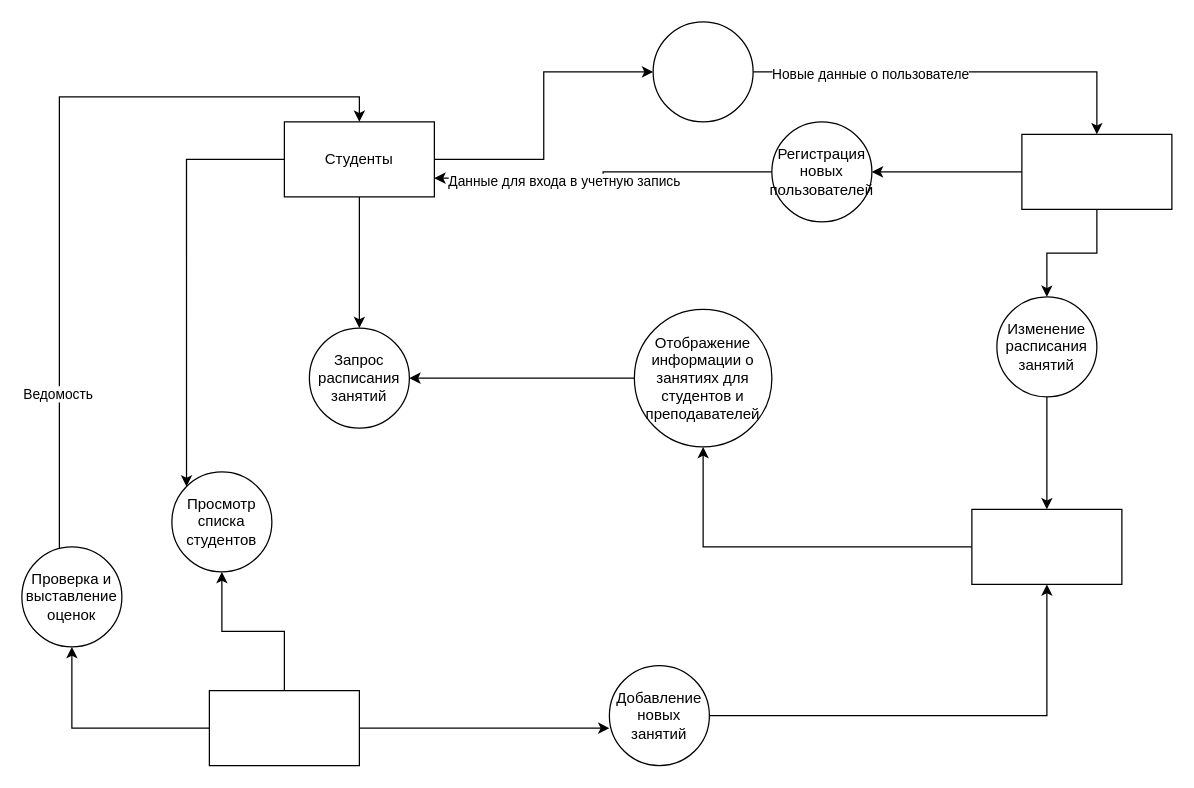
Image size: 1194x788. Some labels were removed from this diagram. The box of each missing label's shape, as (x1, y1, x2, y2) in pixels:
Администраторы: (1021, 133, 1172, 209)
Обновление информации о себе: (652, 21, 753, 122)
Преподаватели: (208, 689, 359, 766)
Расписание занятий: (971, 508, 1122, 584)
